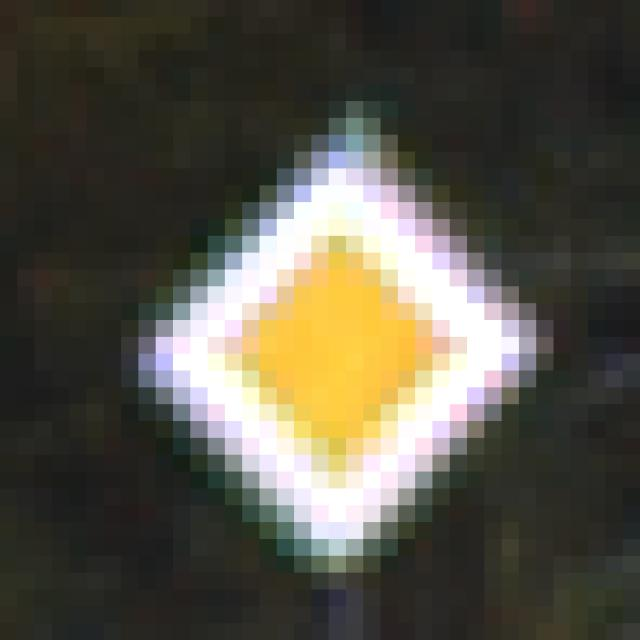Main Road: (105, 102, 554, 557)
